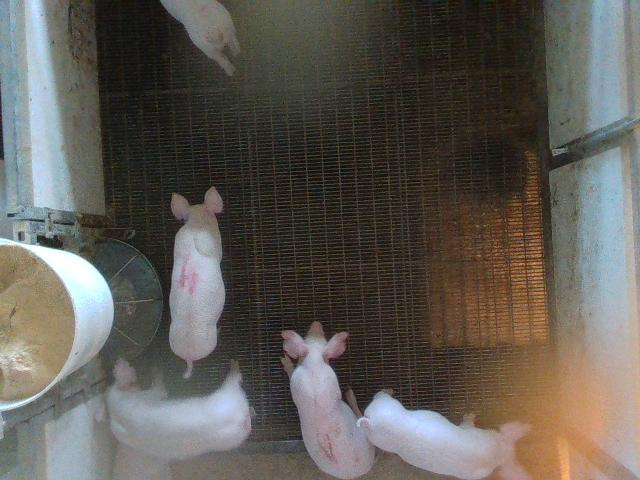pig-1: (281, 321, 375, 479)
pig-4: (169, 186, 225, 377)
